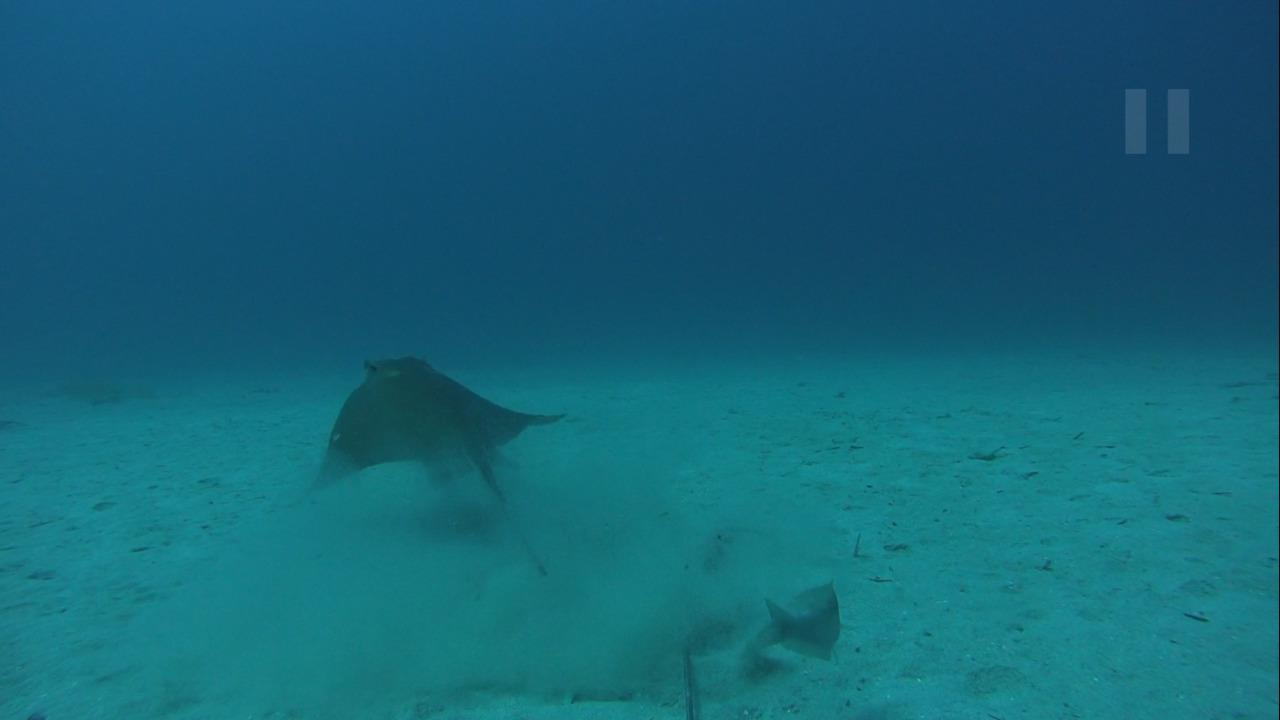myliobatis: (281, 334, 579, 590)
raor: (747, 580, 848, 665)
